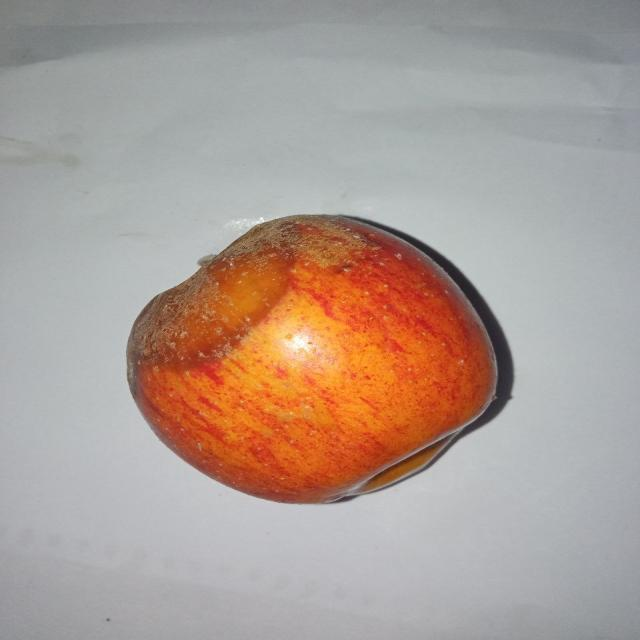rotten_apple: (120, 214, 499, 502)
